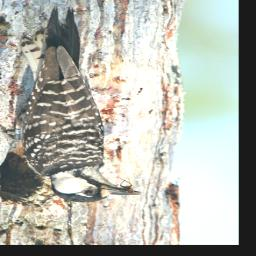Woodpecker: (0, 2, 143, 203)
